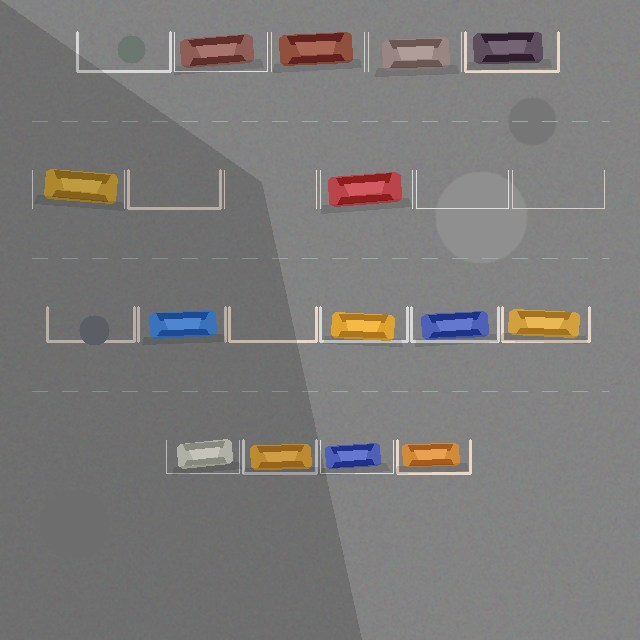space-empty: (77, 32, 170, 71), (128, 170, 220, 208), (224, 170, 316, 208), (416, 170, 508, 208), (512, 170, 604, 208), (47, 307, 134, 341), (229, 307, 316, 341)
space-occupied: (174, 32, 267, 71), (271, 32, 364, 71), (368, 32, 461, 71), (465, 32, 558, 71), (32, 170, 124, 208), (320, 170, 412, 208), (138, 307, 225, 341), (320, 307, 407, 341), (411, 307, 498, 341), (502, 307, 589, 341), (166, 440, 239, 473), (243, 440, 316, 473), (320, 440, 393, 473), (397, 440, 470, 473)
